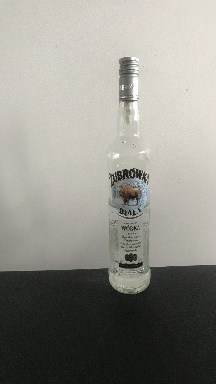butelka: (106, 53, 152, 297)
